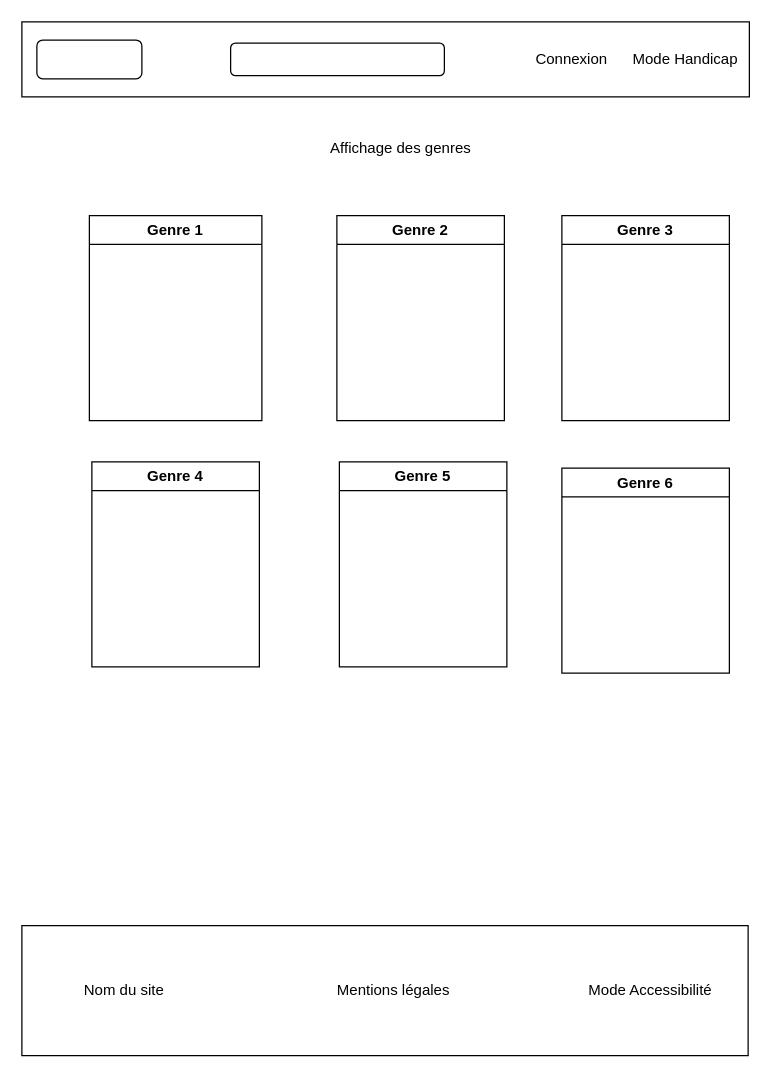
Image size: 771x1078. Some labels were removed from this diagram. The shapes that lost their labels are listed below. From the top down, each one's centre as x and y in pixels, then its label:
(x=89, y=59): Logo
(x=336, y=59): Moteur de recherche
